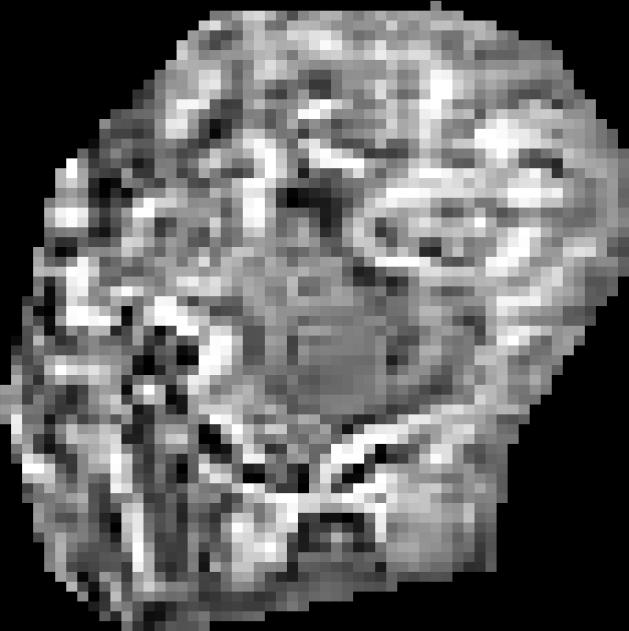tumor_good_chance: (0, 1, 629, 631)
